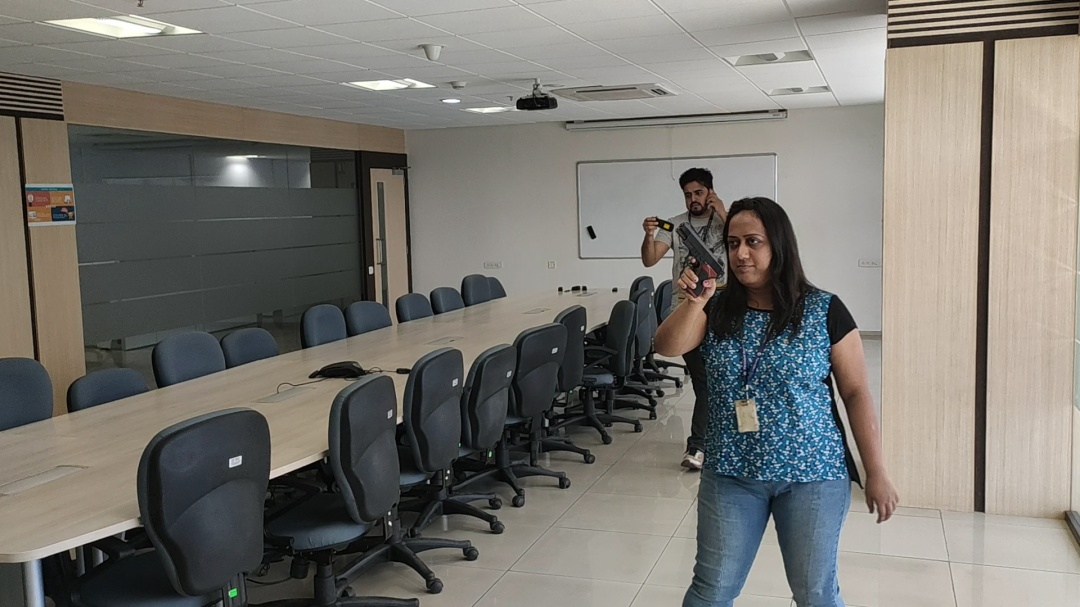gun: (675, 221, 726, 298)
